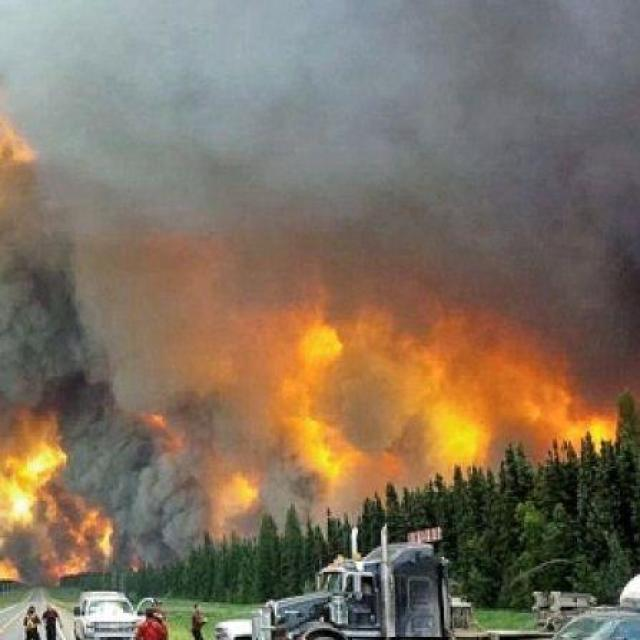Fire: (290, 308, 575, 487), (1, 410, 117, 582), (549, 389, 621, 452), (212, 474, 258, 540)
Smoke: (37, 121, 640, 237), (0, 0, 640, 99), (84, 220, 222, 376), (0, 244, 96, 376), (98, 438, 186, 550), (12, 98, 46, 124)
